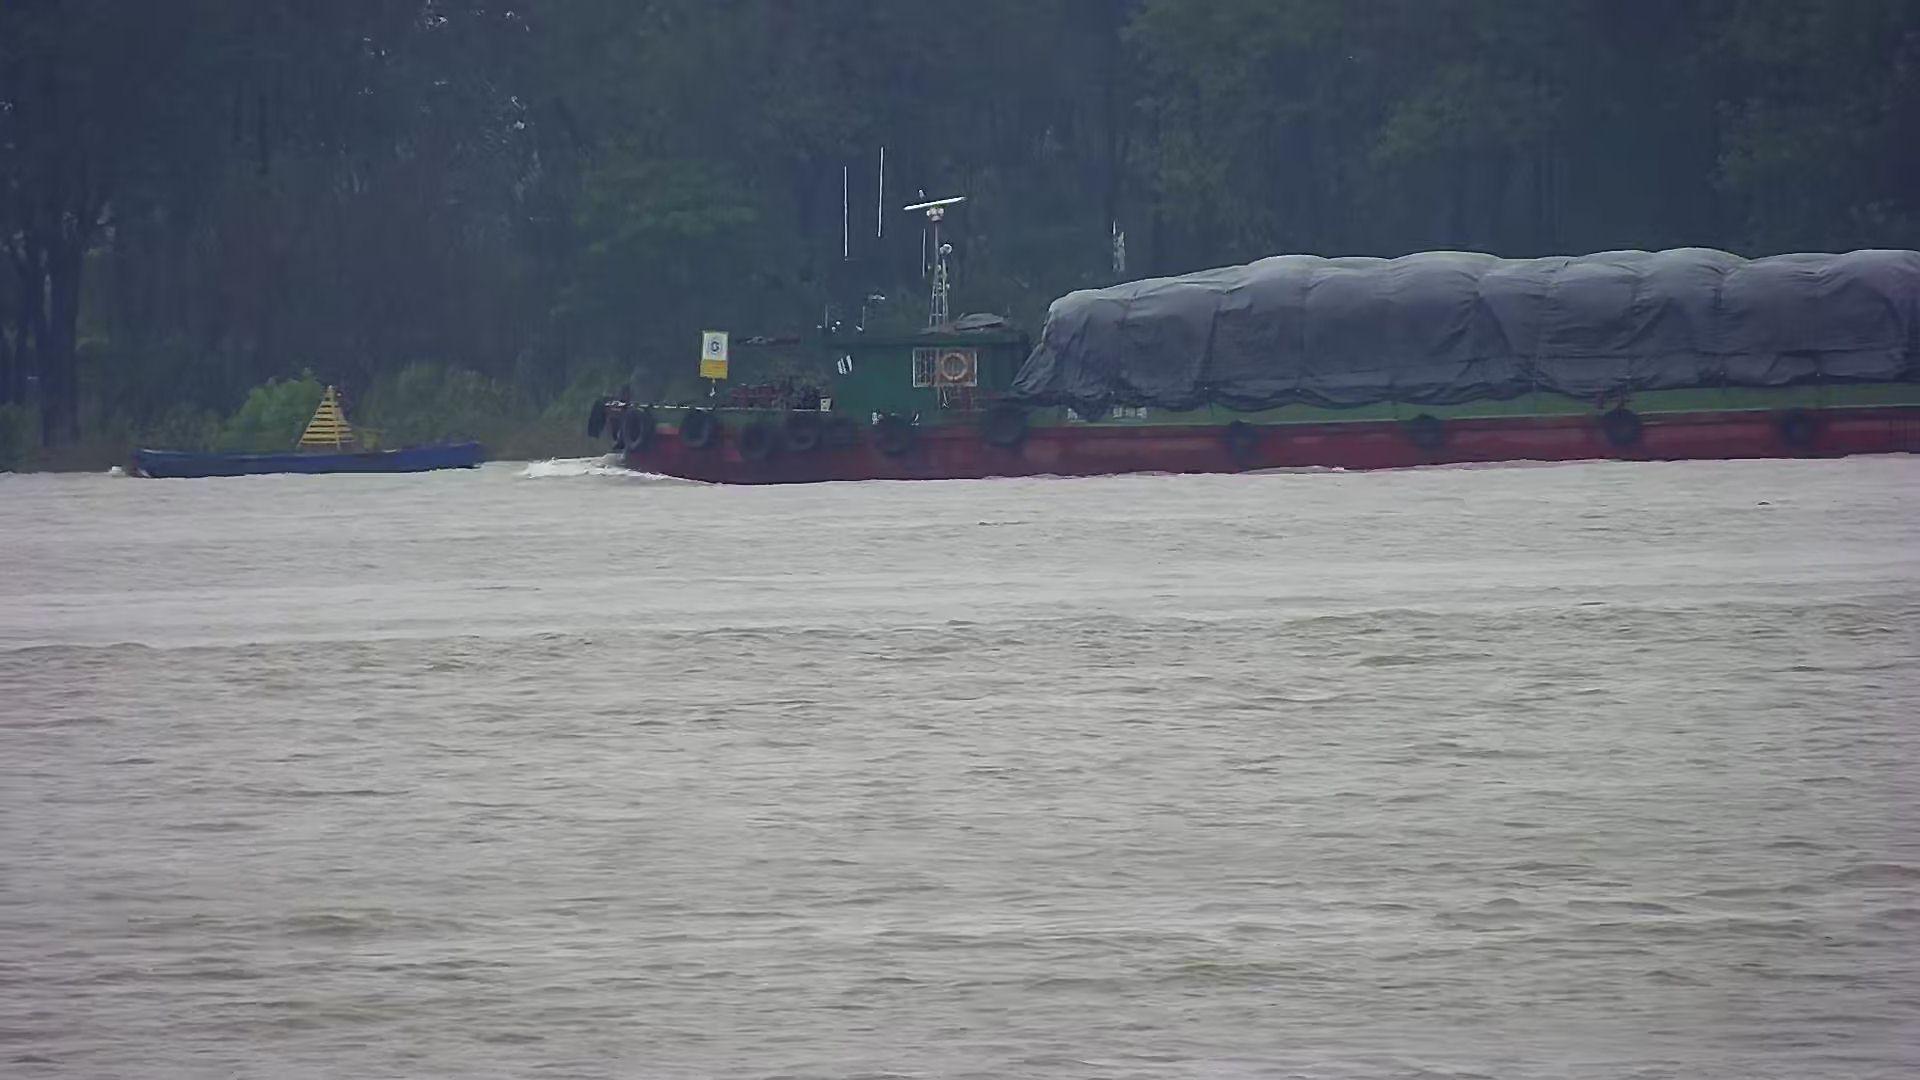boat: (133, 385, 483, 479)
mast: (699, 332, 727, 401)
ship: (589, 196, 1920, 487)
